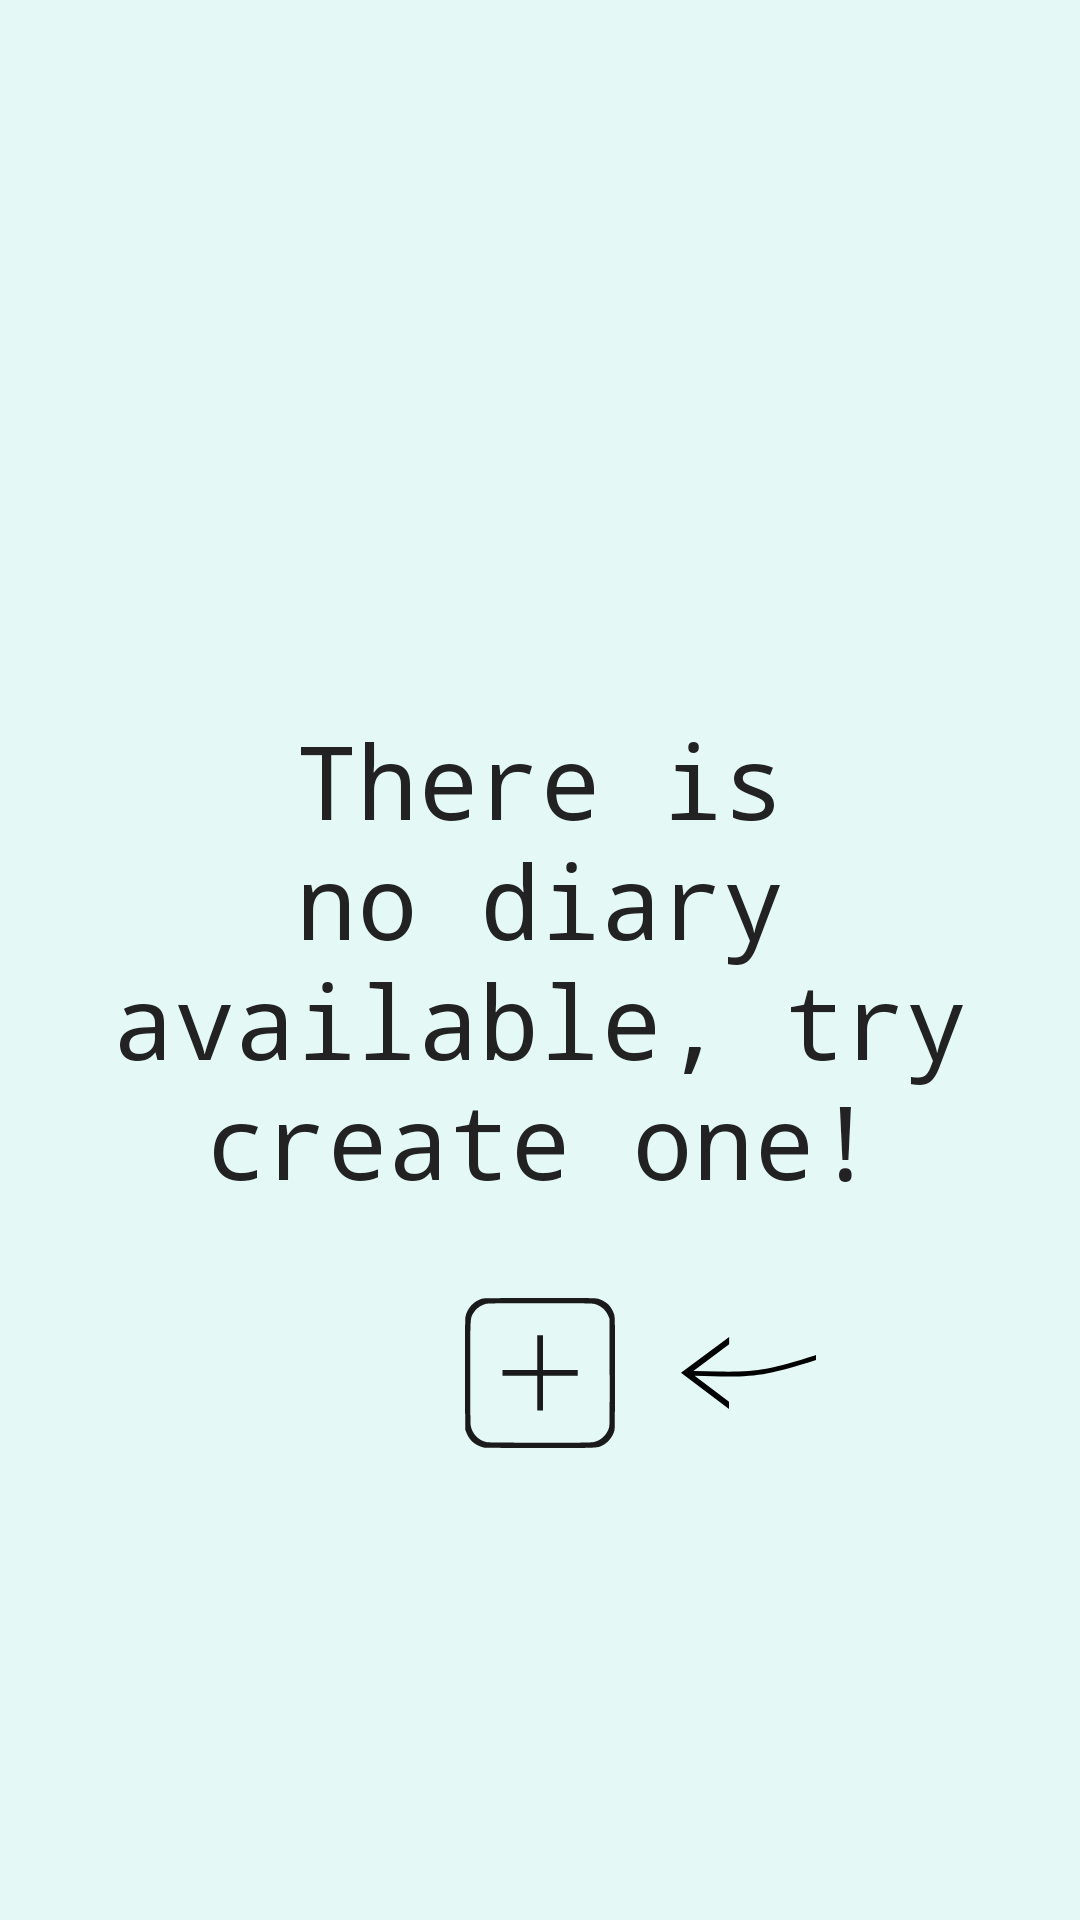

Icon click points for this 1080px×1920px phone screenshot, format [x,y]:
Add new diary: [540,1373]
An arrow points to `diary_home_add`: [748,1373]
